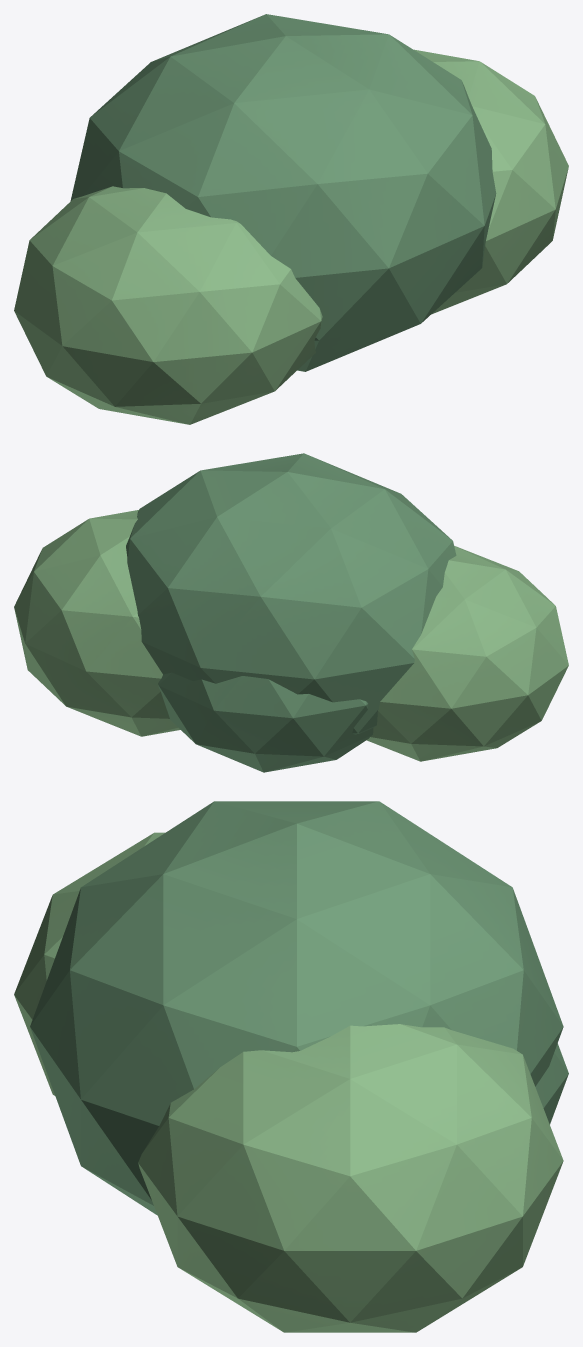
File: bush.glb
3 views of the same model, one above another, from view 1: azimuth 30°, elevation 25°; view 2: azimuth 150°, elevation 25°; view 3: azimuth 270°, elevation 25° (orthographic). The views are drawn at different scales.
Parts seen in each view (by area): view 1: Bush_Cluster_1, Bush_Cluster_2, Bush_Cluster_3; view 2: Bush_Cluster_1, Bush_Cluster_2, Bush_Cluster_3, Bush_Cluster_4; view 3: Bush_Cluster_1, Bush_Cluster_3, Bush_Cluster_2, Bush_Cluster_4.
Part boxes in pixels (<box>): Bush_Cluster_1: <box>70,14,496,371</box>; Bush_Cluster_2: <box>14,186,322,424</box>; Bush_Cluster_3: <box>414,49,568,313</box>; Bush_Cluster_1: <box>126,453,456,734</box>; Bush_Cluster_2: <box>366,546,568,761</box>; Bush_Cluster_3: <box>14,510,180,736</box>; Bush_Cluster_4: <box>158,672,373,772</box>; Bush_Cluster_1: <box>30,801,563,1215</box>; Bush_Cluster_3: <box>138,1024,563,1332</box>; Bush_Cluster_2: <box>14,832,164,1095</box>; Bush_Cluster_4: <box>535,1043,568,1124</box>.
Size of the model in its own units: 1.56 by 0.84 by 1.04.
2 materials, 2 textured.
